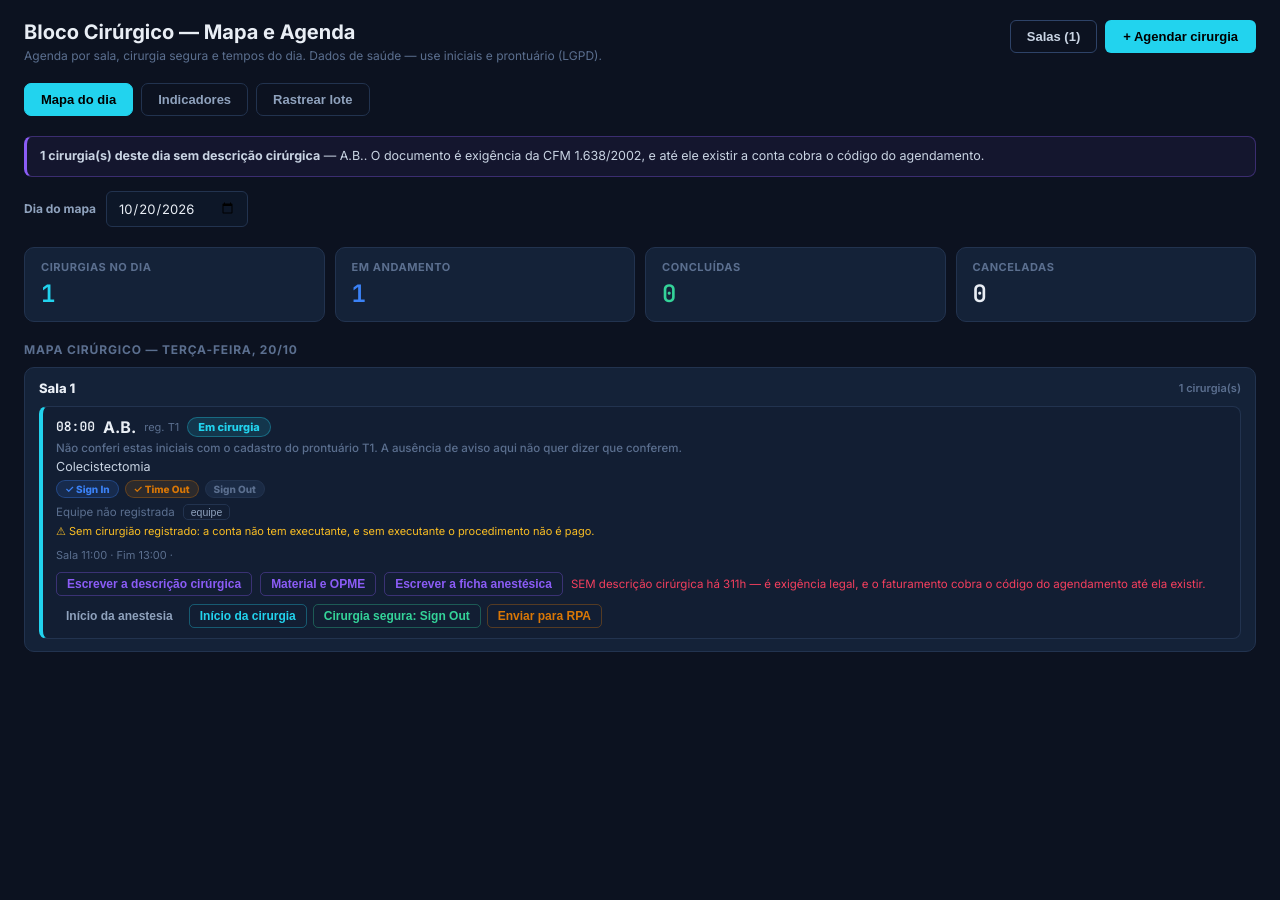
Test: 🔴 o Sign Out na tela: contagem em número › contagem que não fecha mostra NÃO FECHA e pede o que foi feito
Step 1. Click the button "Cirurgia segura: Sign Out" → (397, 616), box left=313, top=604, right=481, bottom=628
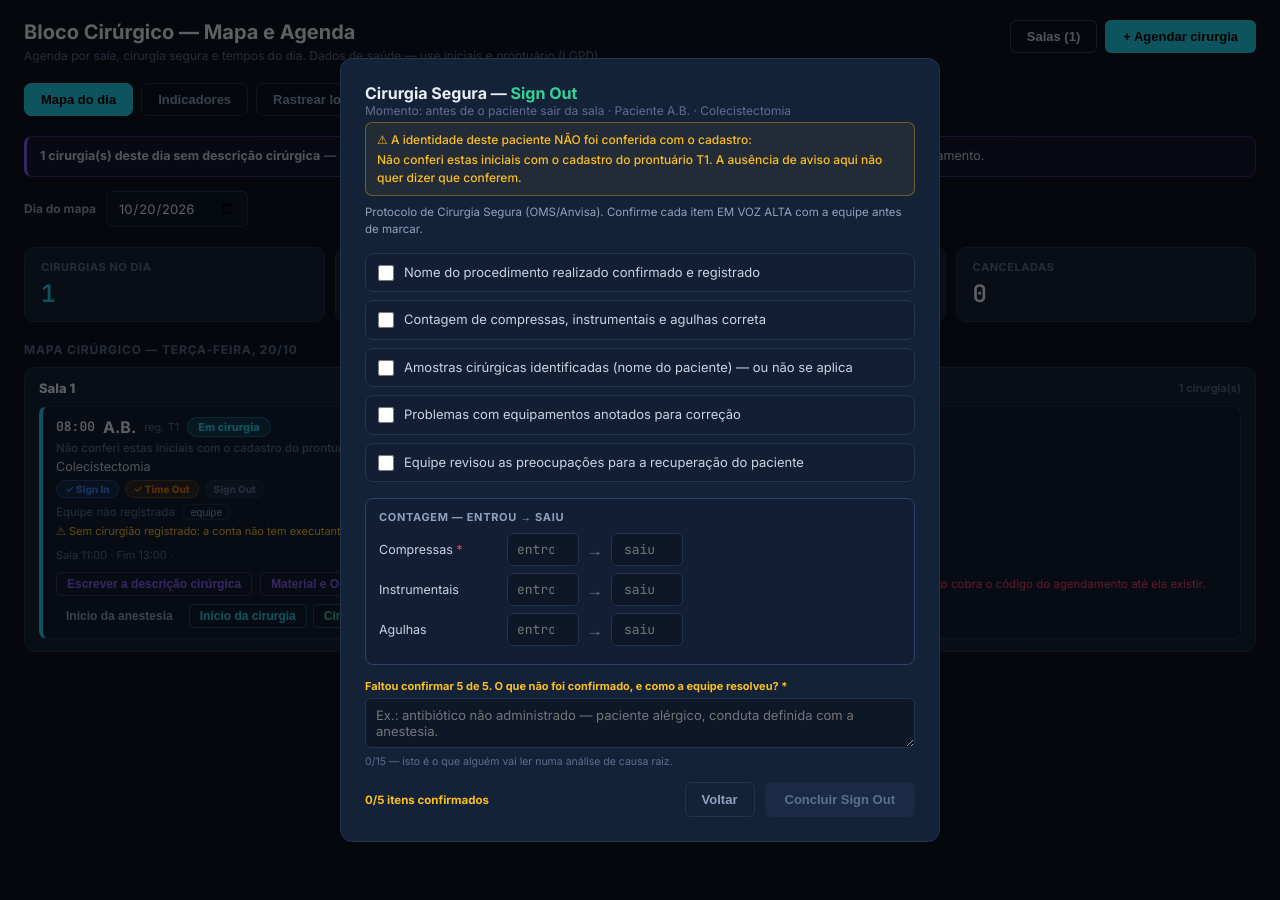
Now the button "Voltar" is shown, box left=685, top=782, right=754, bottom=817
Step 2. Type "20" into the number field named "Compressas — contagem inicial" → (543, 550), box left=507, top=533, right=579, bottom=566
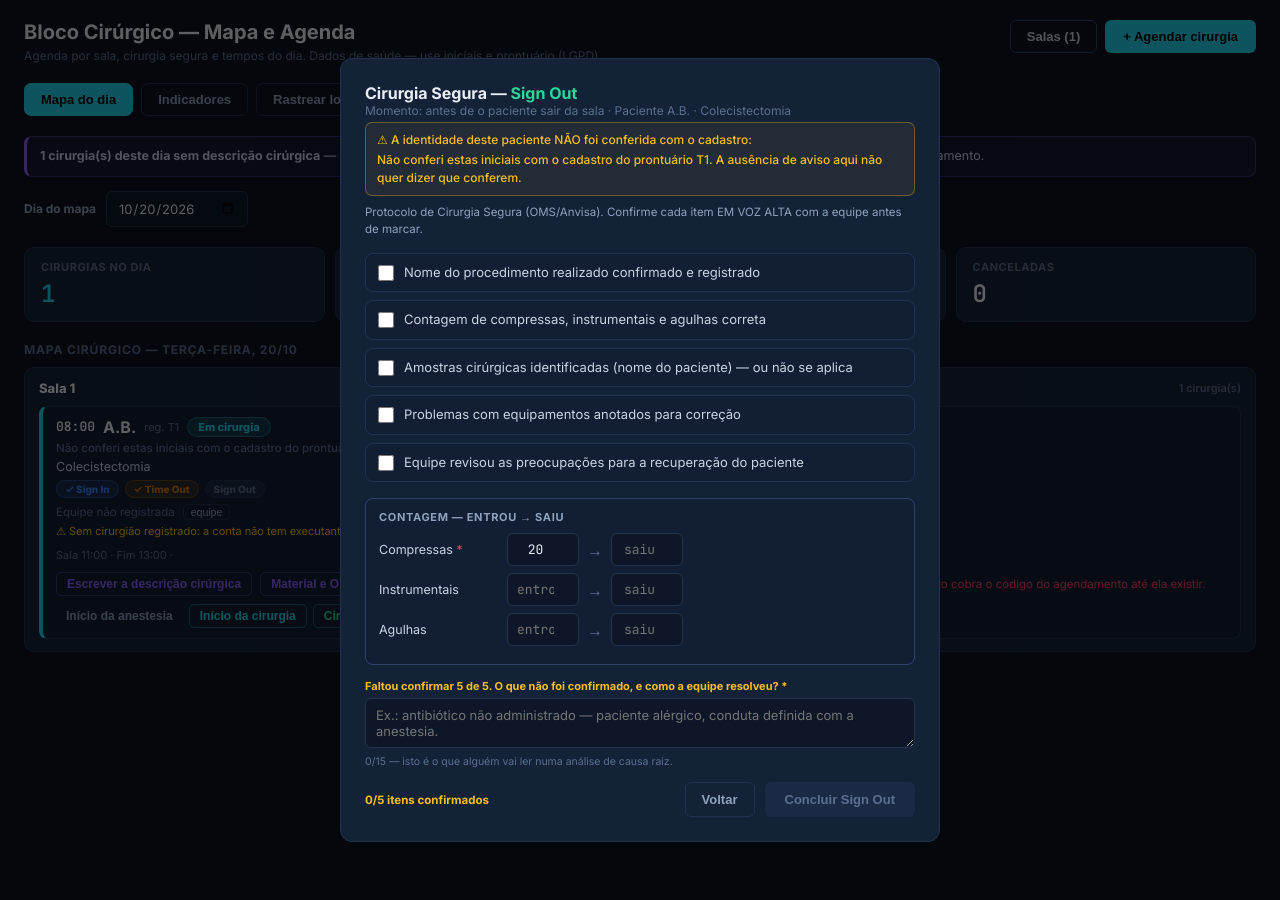
Step 3. Type "19" into the number field named "Compressas — contagem final" → (647, 550), box left=611, top=533, right=683, bottom=566
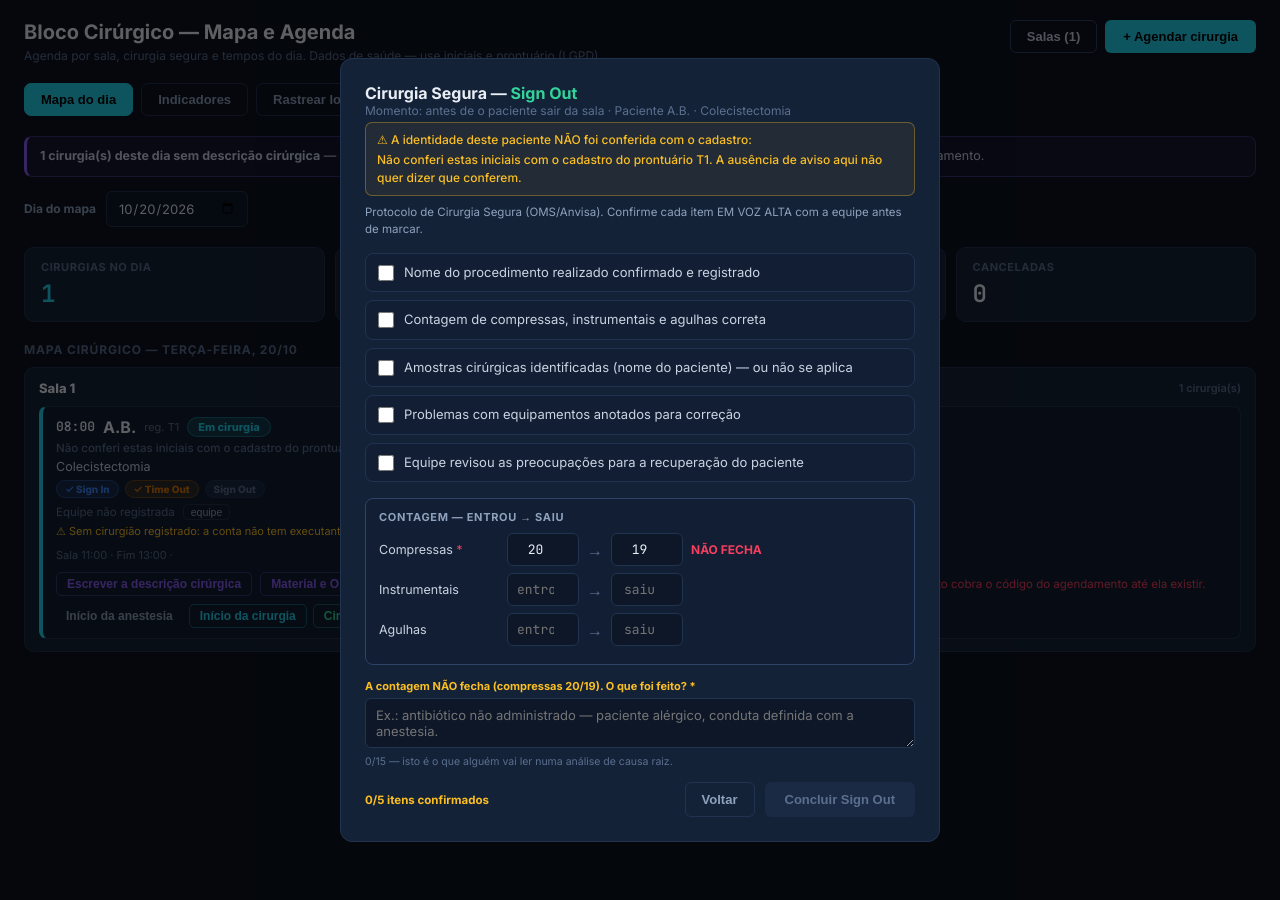
Now the text "NÃO FECHA" is shown, box left=691, top=542, right=762, bottom=557
Now the text "A contagem NÃO fecha (compressas 20/19). O que foi feito? *" is shown, box left=365, top=679, right=696, bottom=693
